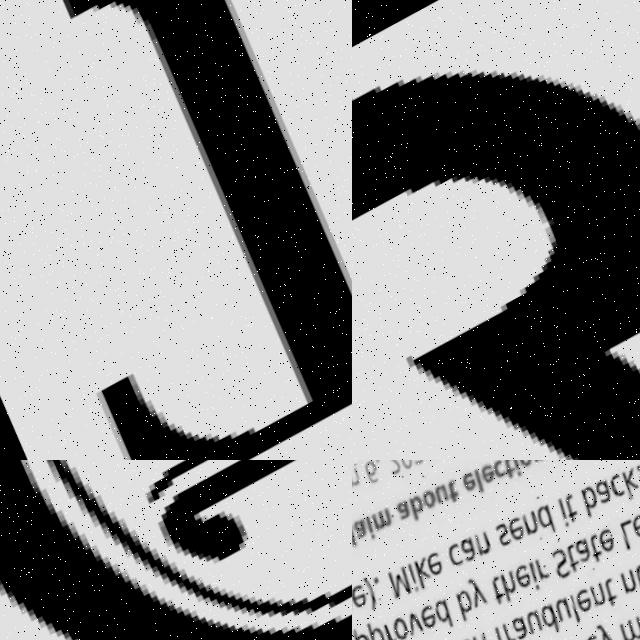0: (396, 460, 423, 473)
2: (385, 460, 410, 478), (407, 460, 432, 468)
5: (352, 0, 640, 460)
6: (361, 460, 388, 488)
G: (0, 460, 352, 640)
T: (0, 0, 352, 460)
